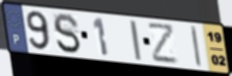1: (92, 17, 111, 58)
9: (26, 10, 52, 52)
I: (128, 19, 143, 62), (189, 25, 203, 68)
S: (52, 12, 83, 56)
Z: (146, 22, 180, 65)
